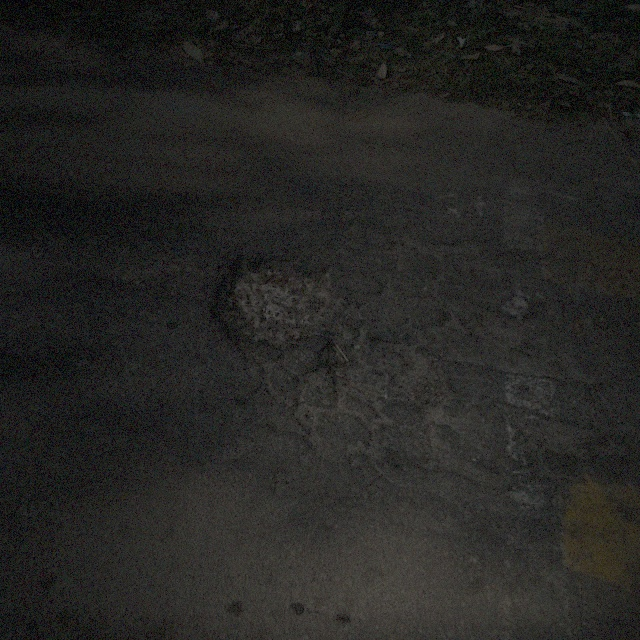pothole: (204, 250, 350, 350), (316, 335, 456, 412)
